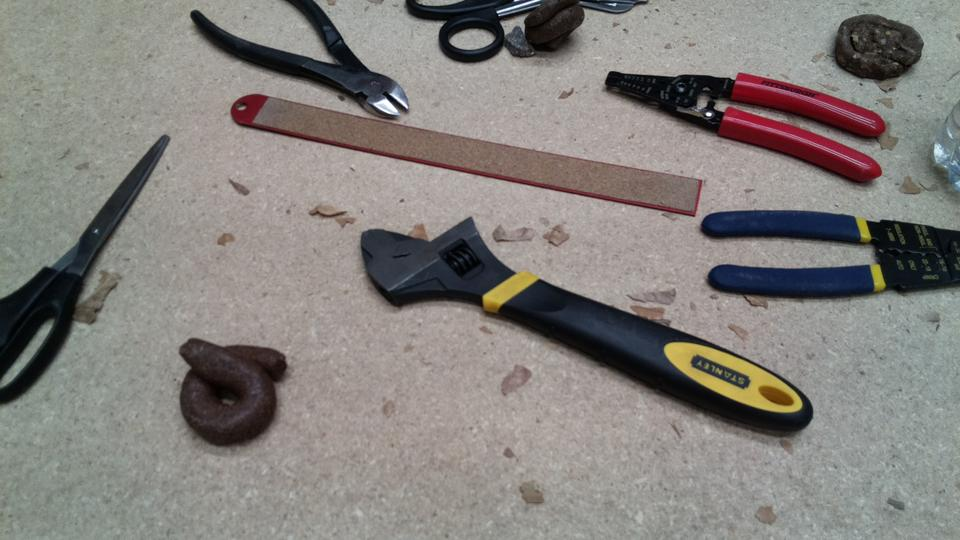poop: (174, 335, 294, 449), (831, 11, 929, 81), (522, 1, 589, 53)
